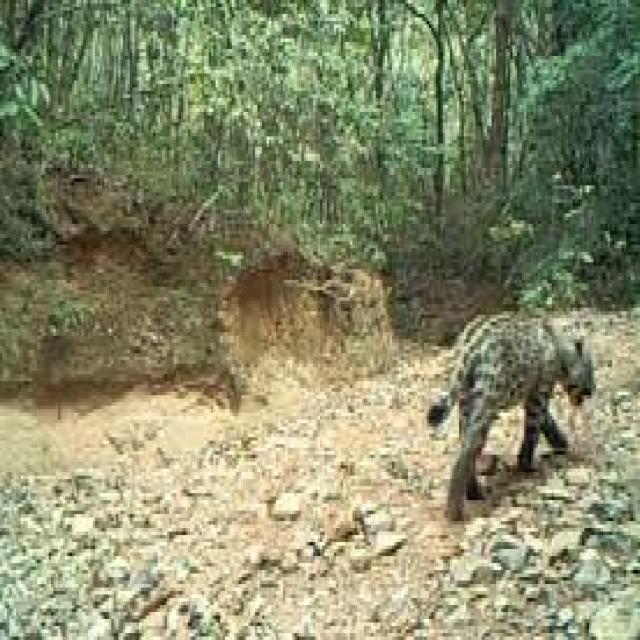Jaguar: (436, 304, 594, 493)
